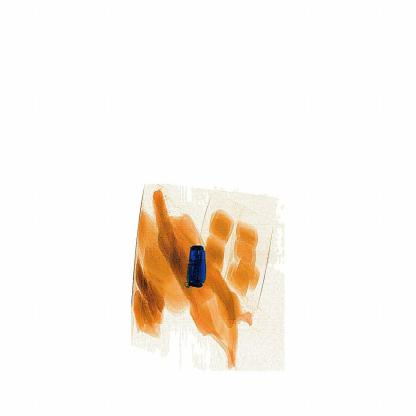scissors: (185, 237, 214, 292)
